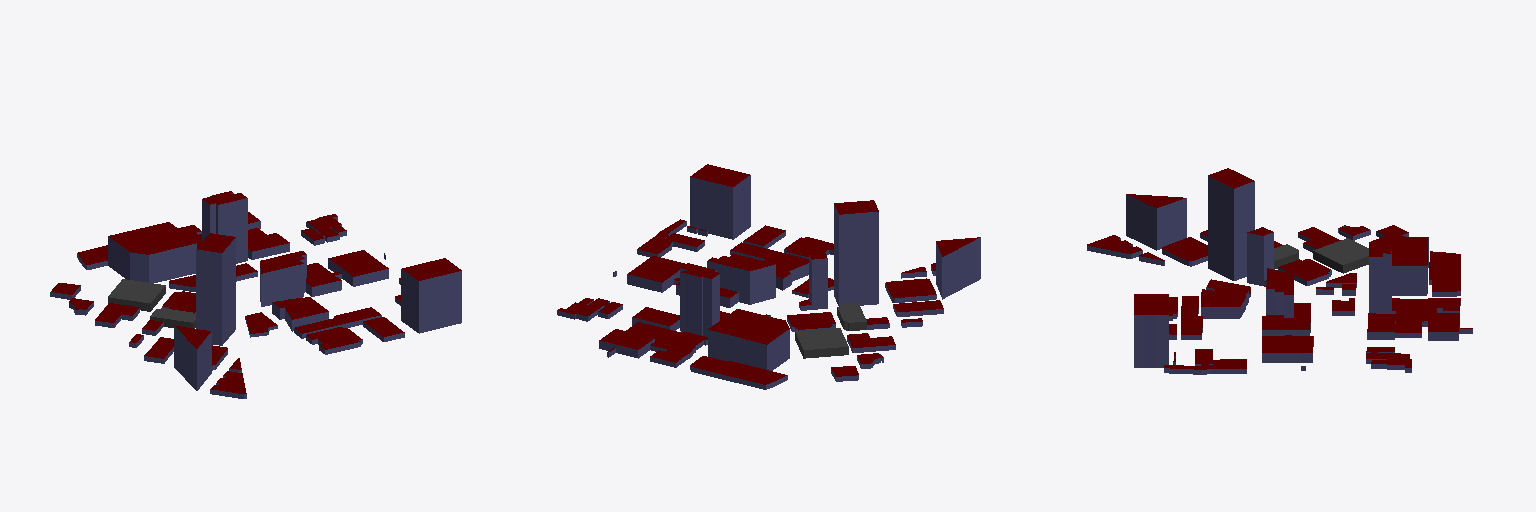
The model's file is tile-buildings(-84.390000,33.755000,-84.385000,33.760000).osm.obj.
The picture shows the model from 3 angles: view 1: azimuth 30°, elevation 25°; view 2: azimuth 150°, elevation 25°; view 3: azimuth 270°, elevation 25°; orthographic projection.
Visible parts, largest first — view 1: Building Rich's Inc, Building Equitable Building, Building AT&T Communications Building, Building Ritz-Carlton Hotel Downtown Atlanta, Building Georgia-Pacific Tower, Building Healey Building, Building16, Building21, Building College of Law, Building27, Building Enclosed Garage, Building15 (+8 smaller); view 2: Building Equitable Building, Building AT&T Communications Building, Building Rich's Inc, Building Ritz-Carlton Hotel Downtown Atlanta, Building Georgia-Pacific Tower, Building Healey Building, Building Westin Peachtree Plaza, Building16, Building21, Building 191 Peachtree Tower, Building Residence Inn Atlanta Downtown, Building International Garage (+9 smaller); view 3: Building Equitable Building, Building Healey Building, Building AT&T Communications Building, Building Rich's Inc, Building Ritz-Carlton Hotel Downtown Atlanta, Building16, Building Westin Peachtree Plaza, Building Residence Inn Atlanta Downtown, Building21, Building College of Law, Building 191 Peachtree Tower, Building Georgia-Pacific Tower (+8 smaller).
Part boxes in pixels (left/top/right/bottom): Building Rich's Inc: left=108, top=222, right=196, bottom=282; Building Equitable Building: left=196, top=233, right=235, bottom=345; Building AT&T Communications Building: left=401, top=258, right=461, bottom=333; Building Ritz-Carlton Hotel Downtown Atlanta: left=202, top=191, right=247, bottom=263; Building Georgia-Pacific Tower: left=260, top=251, right=306, bottom=306; Building Healey Building: left=174, top=325, right=211, bottom=390; Building16: left=328, top=250, right=388, bottom=286; Building21: left=108, top=279, right=165, bottom=311; Building College of Law: left=272, top=297, right=328, bottom=331; Building27: left=306, top=327, right=362, bottom=354; Building Enclosed Garage: left=294, top=307, right=381, bottom=338; Building15: left=301, top=214, right=346, bottom=245; Building Equitable Building: left=834, top=200, right=878, bottom=305; Building AT&T Communications Building: left=690, top=164, right=750, bottom=239; Building Rich's Inc: left=708, top=309, right=789, bottom=370; Building Ritz-Carlton Hotel Downtown Atlanta: left=680, top=263, right=719, bottom=336; Building Georgia-Pacific Tower: left=707, top=254, right=775, bottom=304; Building Healey Building: left=936, top=237, right=980, bottom=299; Building Westin Peachtree Plaza: left=690, top=356, right=787, bottom=389; Building16: left=627, top=256, right=684, bottom=292; Building21: left=795, top=328, right=848, bottom=358; Building 191 Peachtree Tower: left=626, top=322, right=707, bottom=353; Building Residence Inn Atlanta Downtown: left=809, top=250, right=827, bottom=309; Building International Garage: left=599, top=329, right=654, bottom=358; Building Equitable Building: left=1208, top=168, right=1254, bottom=280; Building Healey Building: left=1126, top=194, right=1186, bottom=250; Building AT&T Communications Building: left=1134, top=294, right=1168, bottom=367; Building Rich's Inc: left=1371, top=236, right=1428, bottom=295; Building Ritz-Carlton Hotel Downtown Atlanta: left=1369, top=240, right=1391, bottom=313; Building16: left=1262, top=336, right=1313, bottom=362; Building Westin Peachtree Plaza: left=1429, top=251, right=1460, bottom=296; Building Residence Inn Atlanta Downtown: left=1247, top=227, right=1273, bottom=285; Building21: left=1313, top=238, right=1368, bottom=273; Building College of Law: left=1201, top=289, right=1248, bottom=318; Building 191 Peachtree Tower: left=1392, top=298, right=1427, bottom=337; Building Georgia-Pacific Tower: left=1266, top=268, right=1293, bottom=317.
Size of the model in its own units: 463 by 138 by 520.